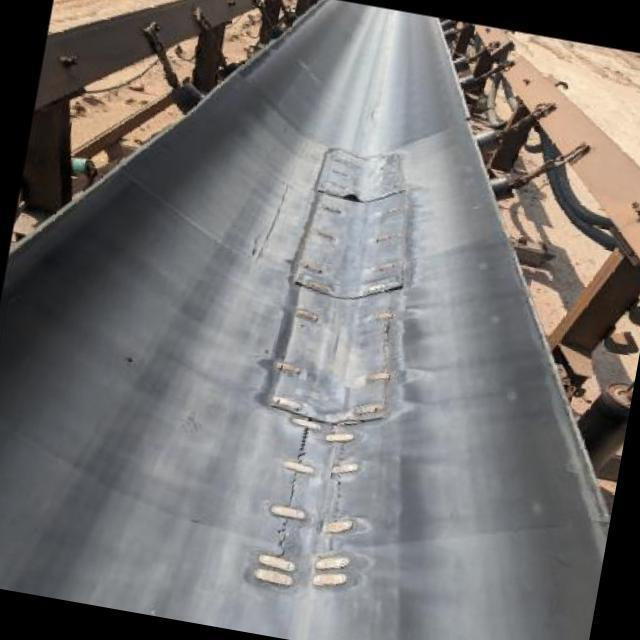Tear: (322, 477, 348, 518), (274, 516, 296, 558), (284, 469, 307, 507), (292, 423, 312, 466)
